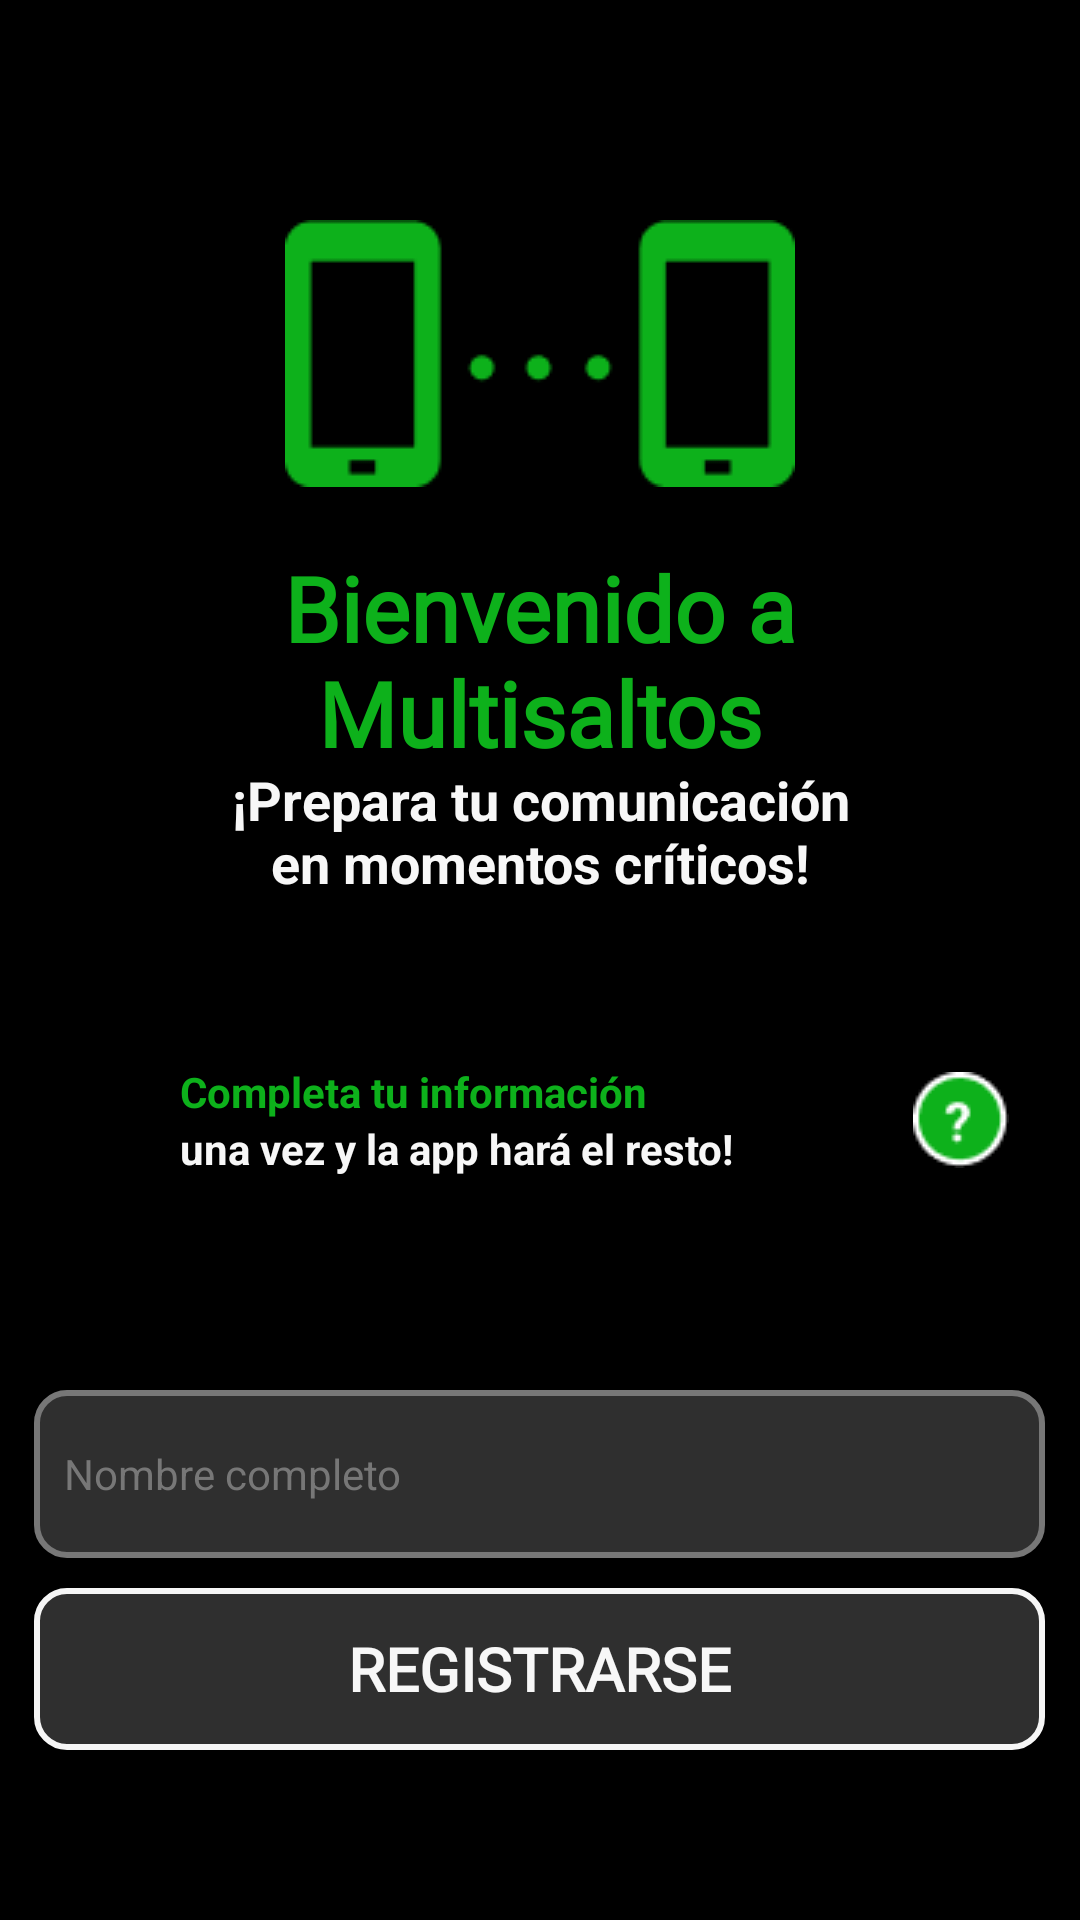

Named icons in this screenshot (1080 x 1920) and their centers, [x,y]:
Aparece un signo de pregunta: [961,1120]
